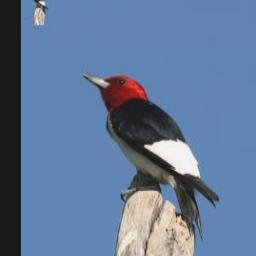Woodpecker: (77, 72, 225, 241)
